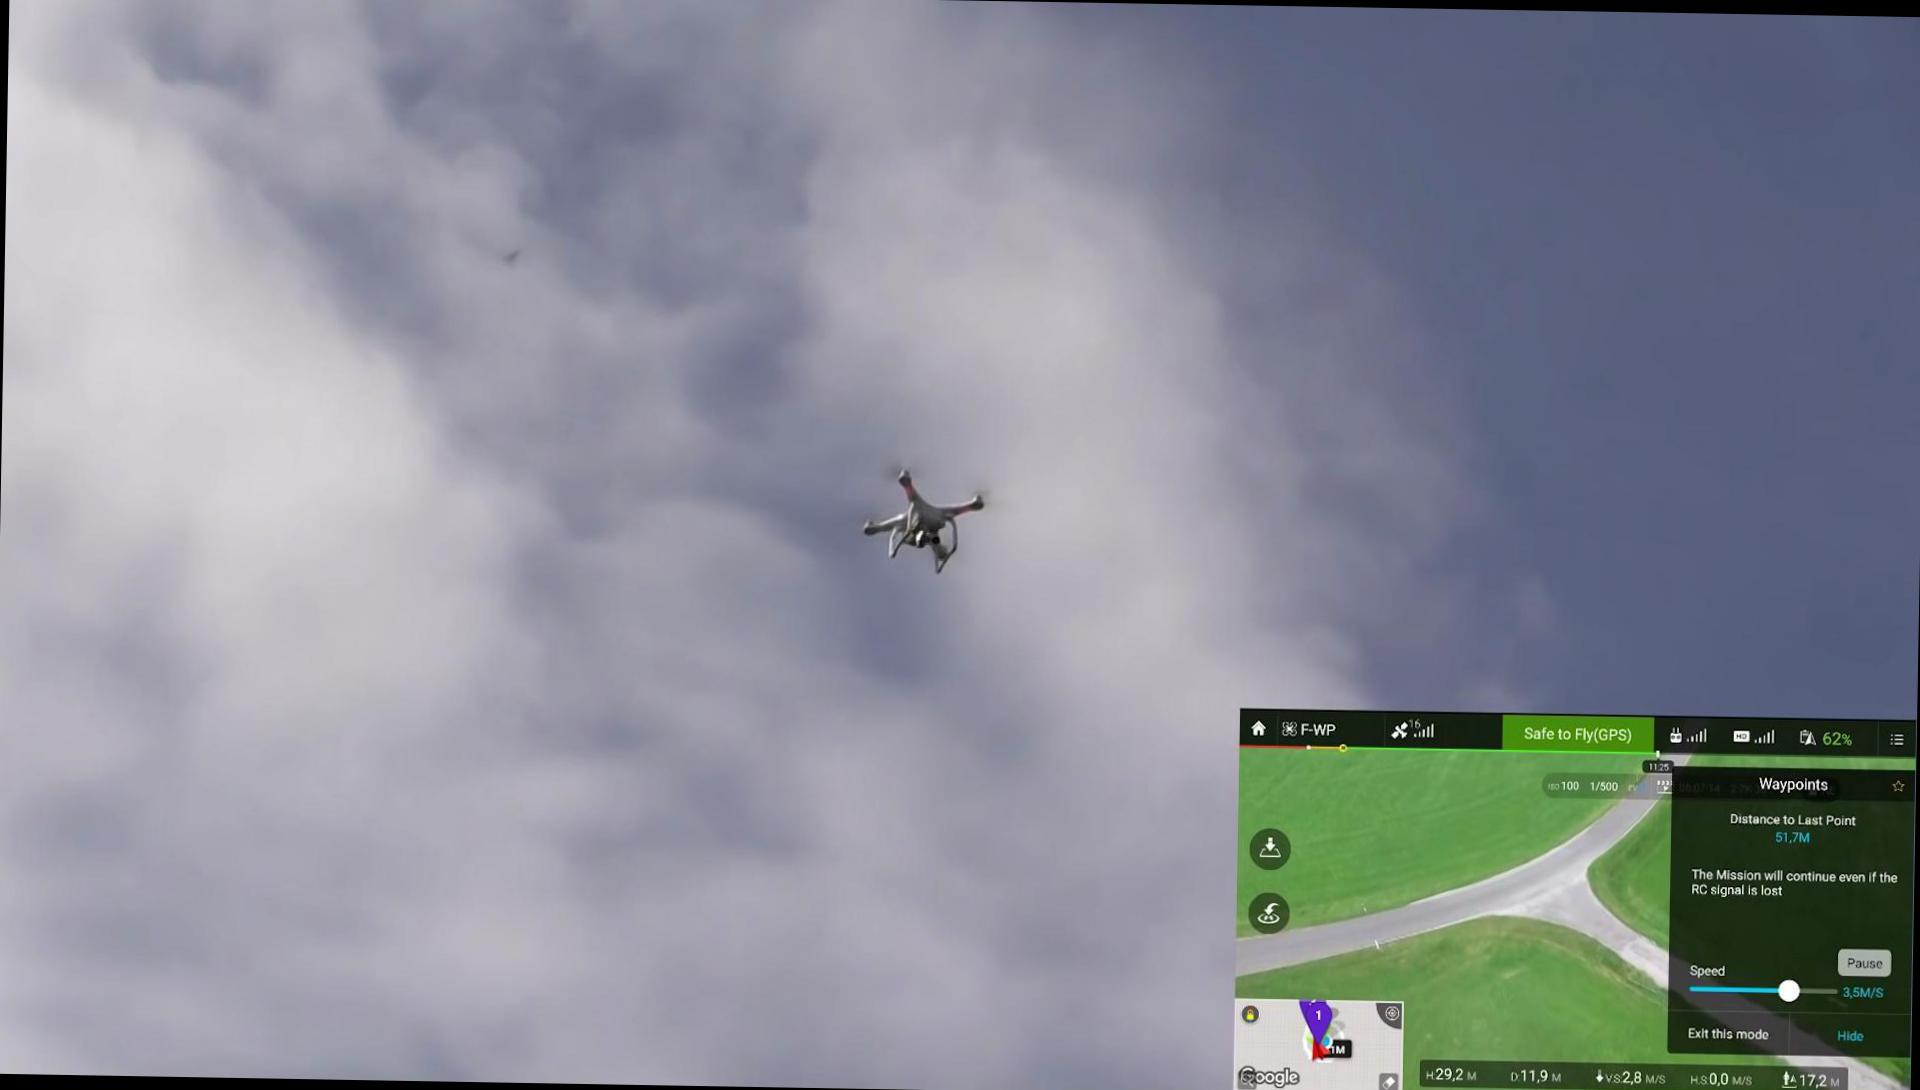drone: (849, 460, 993, 580)
